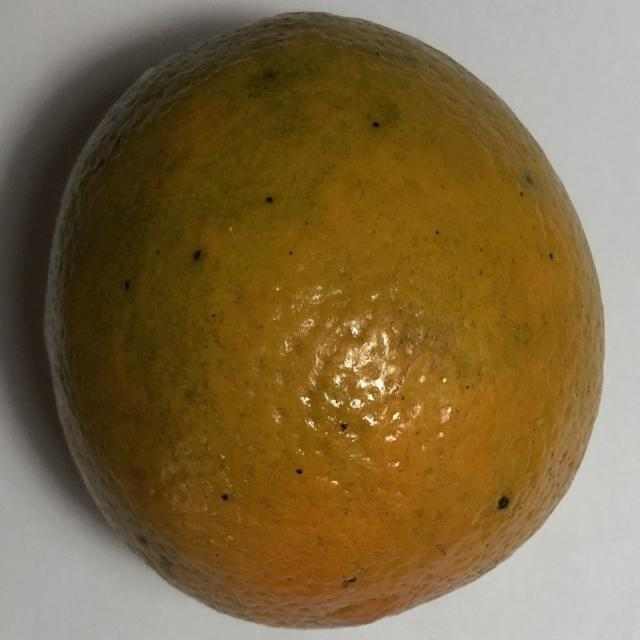blackspot: (26, 0, 625, 640)
